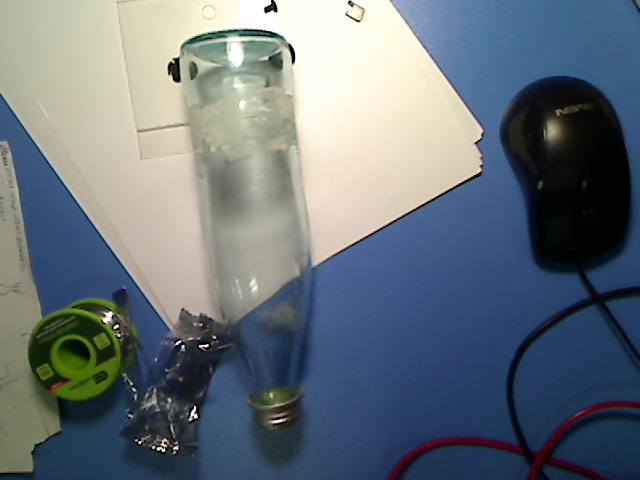bottle: (177, 26, 315, 431)
